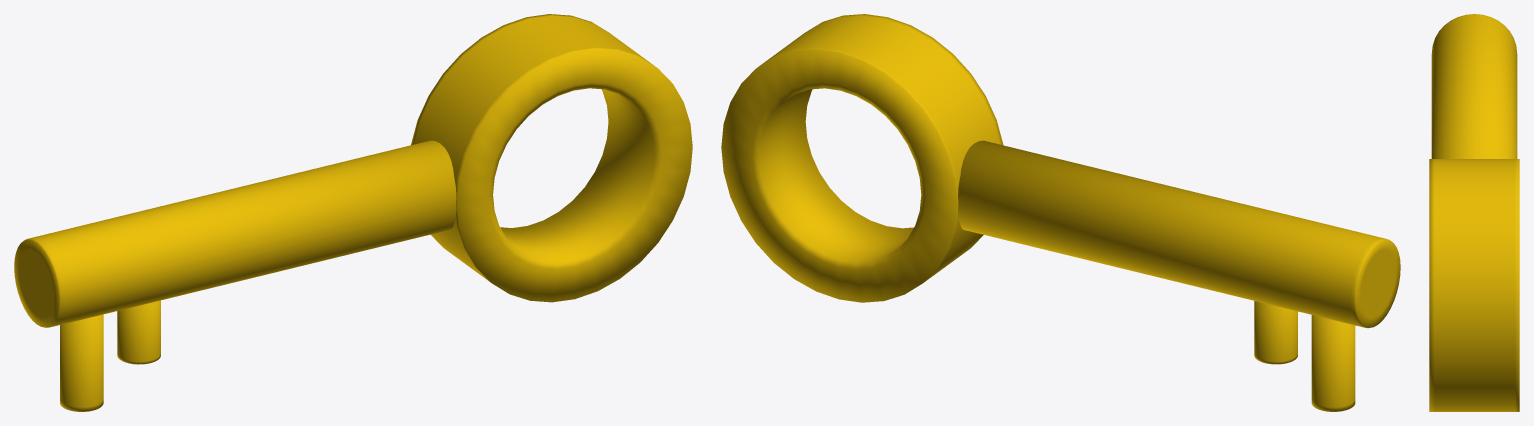
Rendered from KeyV2.fbx.
The picture shows the model from 3 angles, left to right: view 1: azimuth 30°, elevation 25°; view 2: azimuth 150°, elevation 25°; view 3: azimuth 270°, elevation 25°; orthographic projection. The views are drawn at different scales.
Parts seen in each view (by area): view 1: Key; view 2: Key; view 3: Key.
Boxes of the visible parts, x1,y1,x2,y2 form: Key: (14, 14, 692, 411); Key: (721, 14, 1400, 411); Key: (1429, 14, 1519, 411).
Size of the model in its own units: 143 by 54.84 by 19.1.
